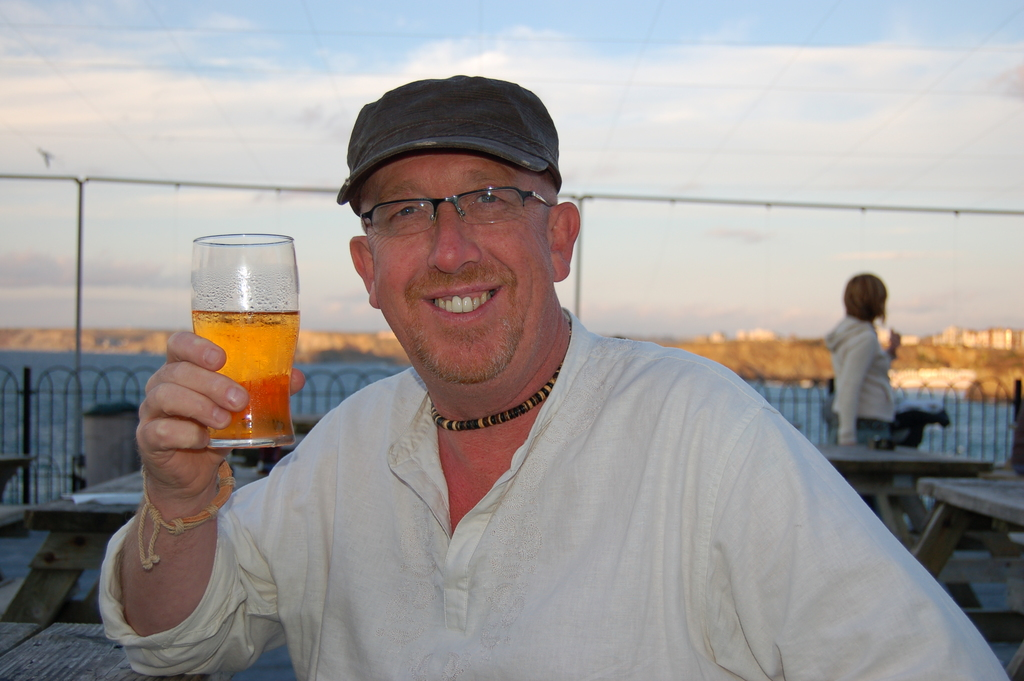Beer: (179, 224, 304, 454)
